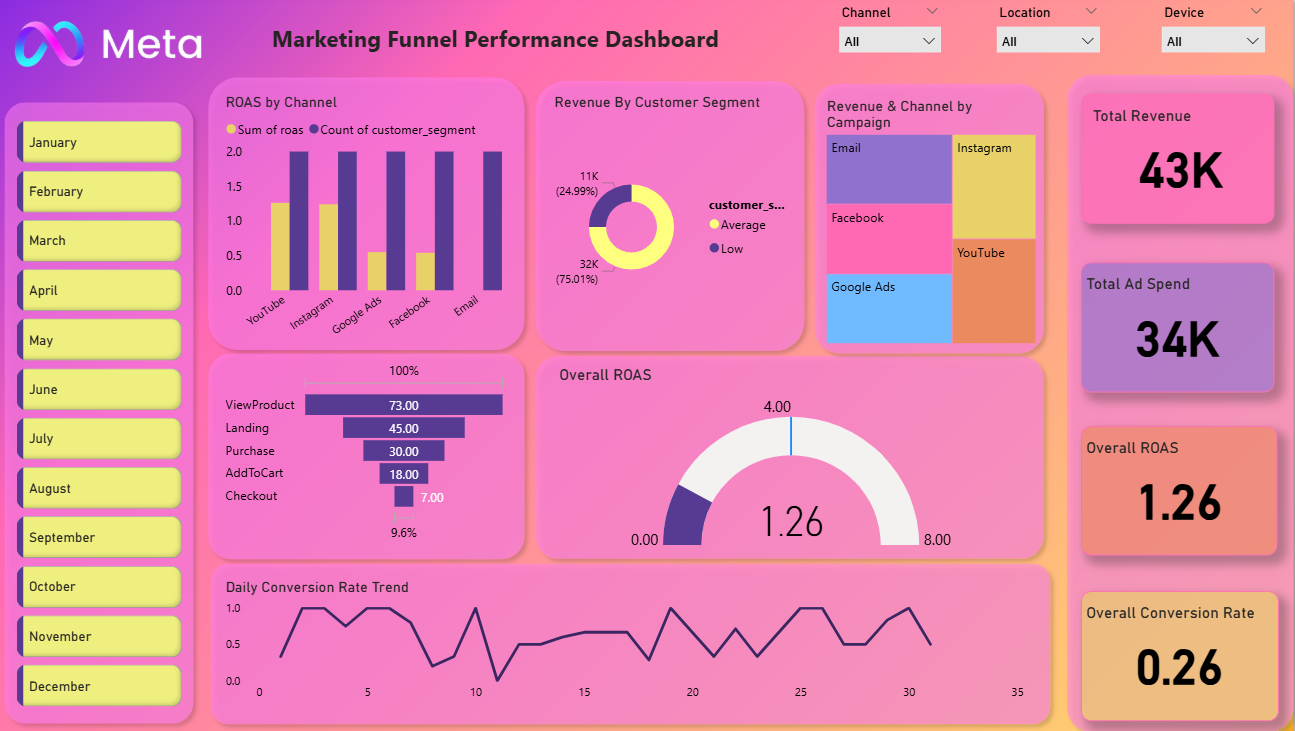

This screenshot's page, from the dashboard's own definition file:
{"tool":"powerbi","page":{"name":"Page 1","canvas":[1400,800],"ordinal":0},"visuals":[{"type":"shape","box":[1139.2,76.5,261.2,723.4],"z":0},{"type":"card","title":"Total Revenue","fields":{"Values":["Sum(sales.sale_amount)"]},"box":[1163.2,106.6,207.1,139.6],"z":1000},{"type":"card","title":"Total Ad Spend","fields":{"Values":["campaigns.Total Ad Spend"]},"box":[1163.2,286.7,207.1,139.6],"z":2000},{"type":"card","title":"Overall ROAS","fields":{"Values":["sales.Overall ROAS"]},"box":[1163.2,462.3,210.1,138.1],"z":3000},{"type":"card","title":"Overall Conversion Rate","fields":{"Values":["sales.Conversion Rate"]},"box":[1163.2,639.4,211.6,139.6],"z":4000},{"type":"textbox","box":[290.9,25.5,595.2,50.9],"z":5000},{"type":"slicer","fields":{"Values":["campaigns.channel"]},"box":[894.5,6,129.1,60],"z":6000},{"type":"slicer","fields":{"Values":["users_clean.location"]},"box":[1062.6,6,130.6,60],"z":7000},{"type":"slicer","fields":{"Values":["users_clean.device"]},"box":[1239.7,6,130.6,60],"z":8000},{"type":"shape","box":[219.1,79.5,357.2,310.7],"z":9000},{"type":"clusteredColumnChart","title":"ROAS by Channel","fields":{"Category":["campaigns.channel"],"Y":["Sum(KPI1_ROAS.roas)","Count(KPI5_Customer_Segments.customer_segment)"]},"box":[241.6,106.6,328.7,280.7],"z":10000},{"type":"shape","box":[0,106.6,220.6,684.4],"z":11000},{"type":"advancedSlicerVisual","fields":{"Values":["campaigns.end_date.Variation.Date Hierarchy.Month"]},"box":[18,130.6,187.6,648.4],"z":12000},{"type":"shape","box":[219.1,375.2,357.2,238.6],"z":13000},{"type":"funnel","fields":{"Category":["KPI4_Funnel_Analysis.event_type"],"Y":["Sum(KPI4_Funnel_Analysis.user_count)"]},"box":[241.6,387.2,312.2,202.6],"z":14000},{"type":"shape","box":[220.6,600.3,918.5,190.6],"z":15000},{"type":"lineChart","title":"Daily Conversion Rate Trend","fields":{"Category":["KPI2_Conversion_Rate.date.Variation.Date Hierarchy.Day"],"Y":["Sum(KPI2_Conversion_Rate.conversion_rate)"]},"box":[241.6,625.9,869,139.6],"z":16000},{"type":"shape","box":[570.3,82.5,306.2,307.7],"z":17000},{"type":"donutChart","title":"Revenue By Customer Segment","fields":{"Category":["KPI5_Customer_Segments.customer_segment"],"Y":["Sum(KPI5_Customer_Segments.total_spent)"]},"box":[594.3,106.6,262.7,268.7],"z":18000},{"type":"shape","box":[570.3,378.2,562.8,235.6],"z":19000},{"type":"gauge","fields":{"Y":["sales.Overall ROAS"]},"box":[598.8,393.2,507.3,207.1],"z":20000},{"type":"shape","box":[869,85.5,264.2,307.7],"z":21000},{"type":"image","box":[0,0,241.6,106.6],"z":23000},{"type":"treemap","title":"Revenue & Channel by Campaign","fields":{"Group":["campaigns.channel","campaigns.campaign_id"],"Values":["Sum(sales.sale_amount)"]},"box":[885.5,109.6,234.1,268.7],"z":23501}]}

Visuals, with their boxes in screenshot pixels (x1, y1, x2, y2), scaled from the page's 1400x800 canvas onto the 1295x731 screenshot:
shape: 1054,70,1294,730
"Total Revenue" card: 1076,97,1268,225
"Total Ad Spend" card: 1076,262,1268,390
"Overall ROAS" card: 1076,422,1270,549
"Overall Conversion Rate" card: 1076,584,1272,712
textbox: 269,23,820,70
slicer - campaigns.channel: 827,5,947,60
slicer - users_clean.location: 983,5,1104,60
slicer - users_clean.device: 1147,5,1268,60
shape: 203,73,533,357
"ROAS by Channel" clusteredColumnChart: 223,97,528,354
shape: 0,97,204,723
advancedSlicerVisual - campaigns.end_date.Variation.Date Hierarchy.Month: 17,119,190,712
shape: 203,343,533,561
funnel - KPI4_Funnel_Analysis.event_type x Sum(KPI4_Funnel_Analysis.user_count): 223,354,512,539
shape: 204,549,1054,723
"Daily Conversion Rate Trend" lineChart: 223,572,1027,699
shape: 528,75,811,357
"Revenue By Customer Segment" donutChart: 550,97,793,343
shape: 528,346,1048,561
gauge - sales.Overall ROAS: 554,359,1023,549
shape: 804,78,1048,359
image: 0,0,223,97
"Revenue & Channel by Campaign" treemap: 819,100,1036,346
